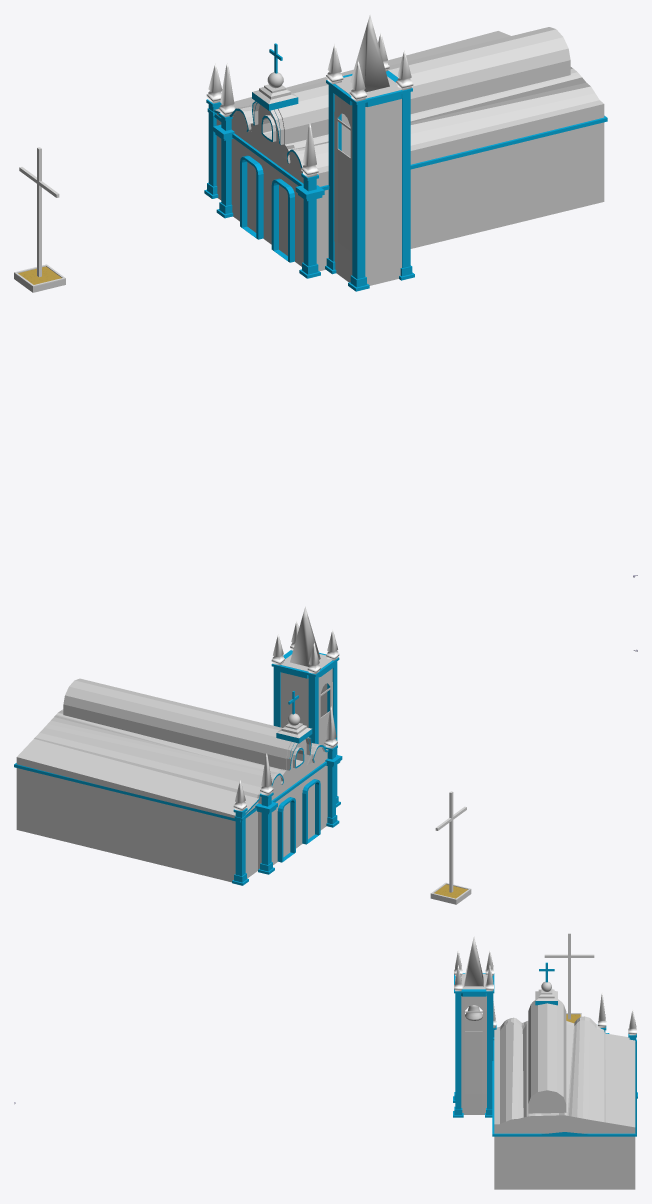
Rendered from Igreja.fbx.
3 views of the same model, one above another, from view 1: azimuth 30°, elevation 25°; view 2: azimuth 150°, elevation 25°; view 3: azimuth 270°, elevation 25° (orthographic). The views are drawn at different scales.
Parts seen in each view (by area): view 1: Cube.059, Cylinder.001, Cube.062, Cube.067, Cube.068, Cube.063, Cube.066, Cone.001, Cube.060, Cube.064, Cube.061, Cube.057 (+3 smaller); view 2: Cube.059, Cylinder.001, Cube.062, Cube.064, Cube.066, Cone.001, Cube.065, Cube.060, Cube.063, Cube.061, Cube.067, Cube.058 (+3 smaller); view 3: Cube.059, Cylinder.001, Cube.062, Cube.068, Cube.069, Cone.001, Cube.058.
Boxes of the visible parts, x1,y1,x2,y2 form: Cube.059: (214,31,607,271); Cylinder.001: (252,27,570,148); Cube.062: (334,76,401,285); Cube.067: (341,90,384,291); Cube.068: (383,77,414,280); Cube.063: (295,173,324,278); Cube.066: (325,74,352,274); Cone.001: (350,15,389,92); Cube.060: (240,155,263,239); Cube.064: (213,113,234,218); Cube.061: (271,178,294,262); Cube.057: (14,264,65,292); Cube.059: (14,709,328,882); Cylinder.001: (63,678,311,772); Cube.062: (280,654,332,746); Cube.064: (255,792,277,874); Cube.066: (293,665,327,743); Cone.001: (290,606,320,666); Cube.065: (232,808,248,885); Cube.060: (277,797,295,862); Cube.063: (325,745,342,827); Cube.061: (302,779,320,844); Cube.067: (319,652,340,807); Cube.058: (435,791,466,892); Cube.059: (492,1016,636,1189); Cylinder.001: (528,999,566,1113); Cube.062: (461,974,487,1114); Cube.068: (453,982,474,1117); Cube.069: (474,982,494,1117); Cone.001: (464,936,483,986); Cube.058: (544,933,594,1019).
Size of the model in its own units: 1857 by 981 by 2859.
